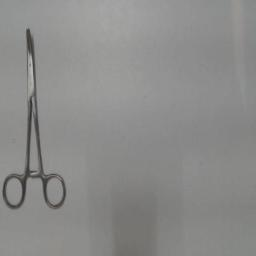Crile Artery Forceps: (1, 24, 69, 216)
